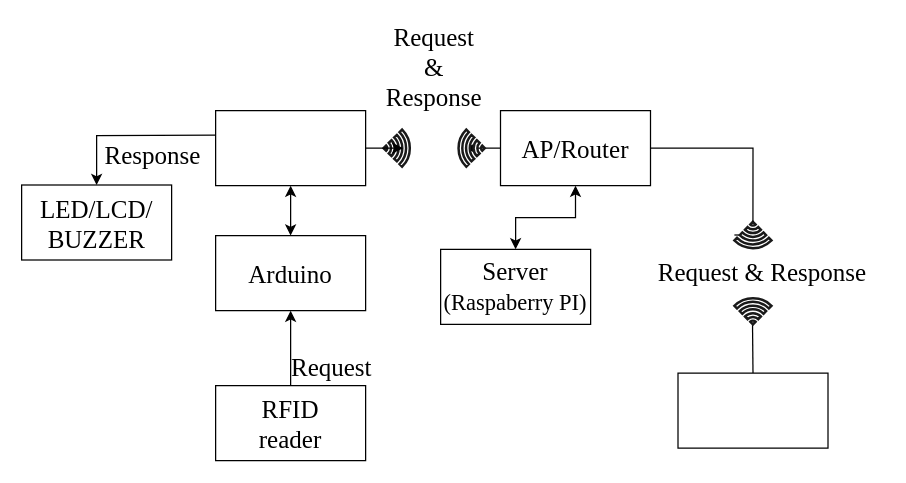
Image size: 906x483. Some labels were removed from this diagram. Each missing label, with the centre of its shape:
"Node MCU" belongs at (x=290, y=147).
"Smartphone" belongs at (x=752, y=410).
